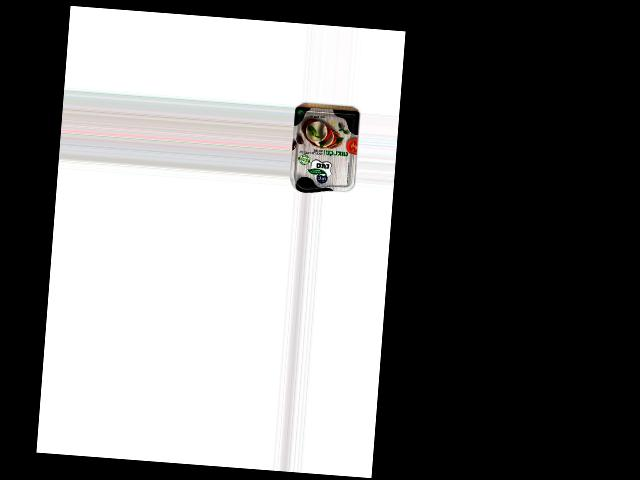cheese: (289, 105, 361, 195)
